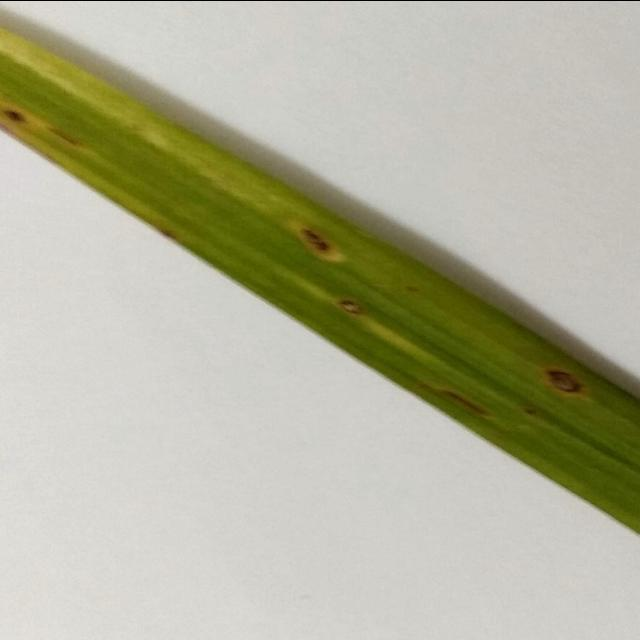Leaf_Blast: (524, 361, 593, 404), (284, 224, 348, 264), (0, 105, 27, 137)
